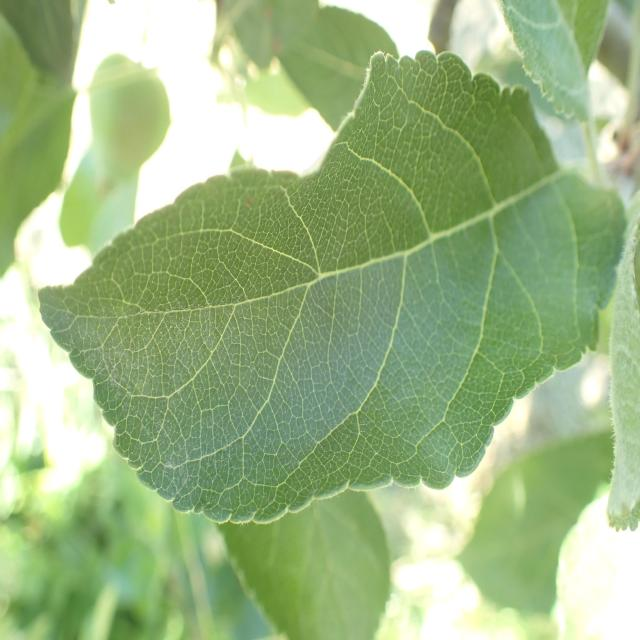healthy: (36, 48, 631, 525), (499, 0, 610, 122), (604, 189, 640, 533)
